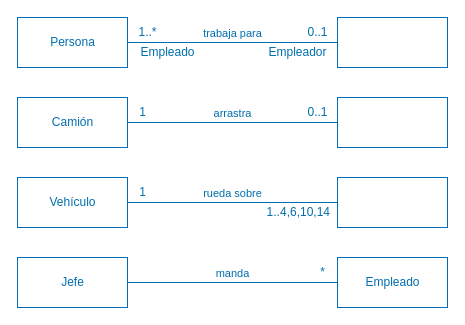
This 465x325 diagram has some shape labels left out. Here are the shapes that lost their labels. From the top down, the box of each, then its label:
(336, 16, 448, 68): Empresa
(336, 96, 448, 148): Zorra
(336, 176, 448, 228): Rueda
